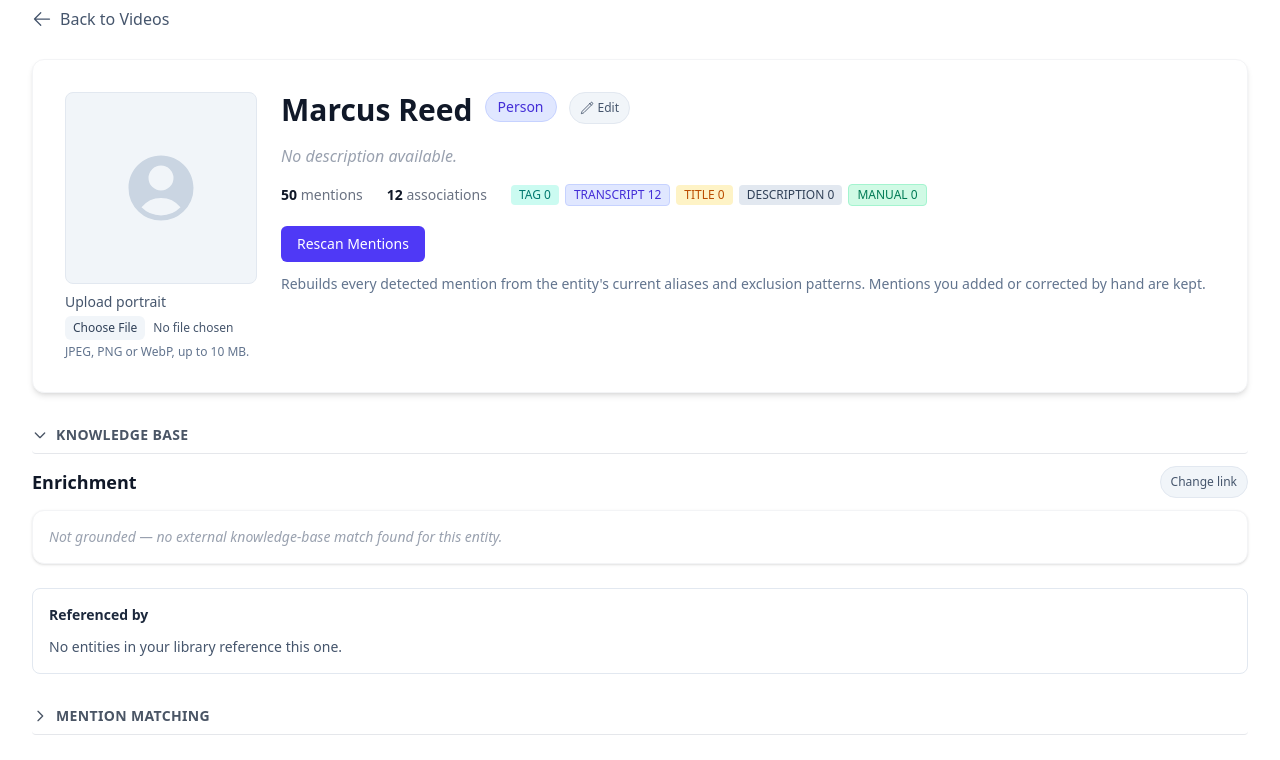
EntityDetailPage — alias case-sensitivity toggle (#177) › renders an unchecked toggle for an alias that matches any casing
The width and height of the screenshot is (1280, 760).
Click the button "Mention matching".
click(133, 716)  # box x1=32 y1=698 x2=1248 y2=735
(page scrolled)
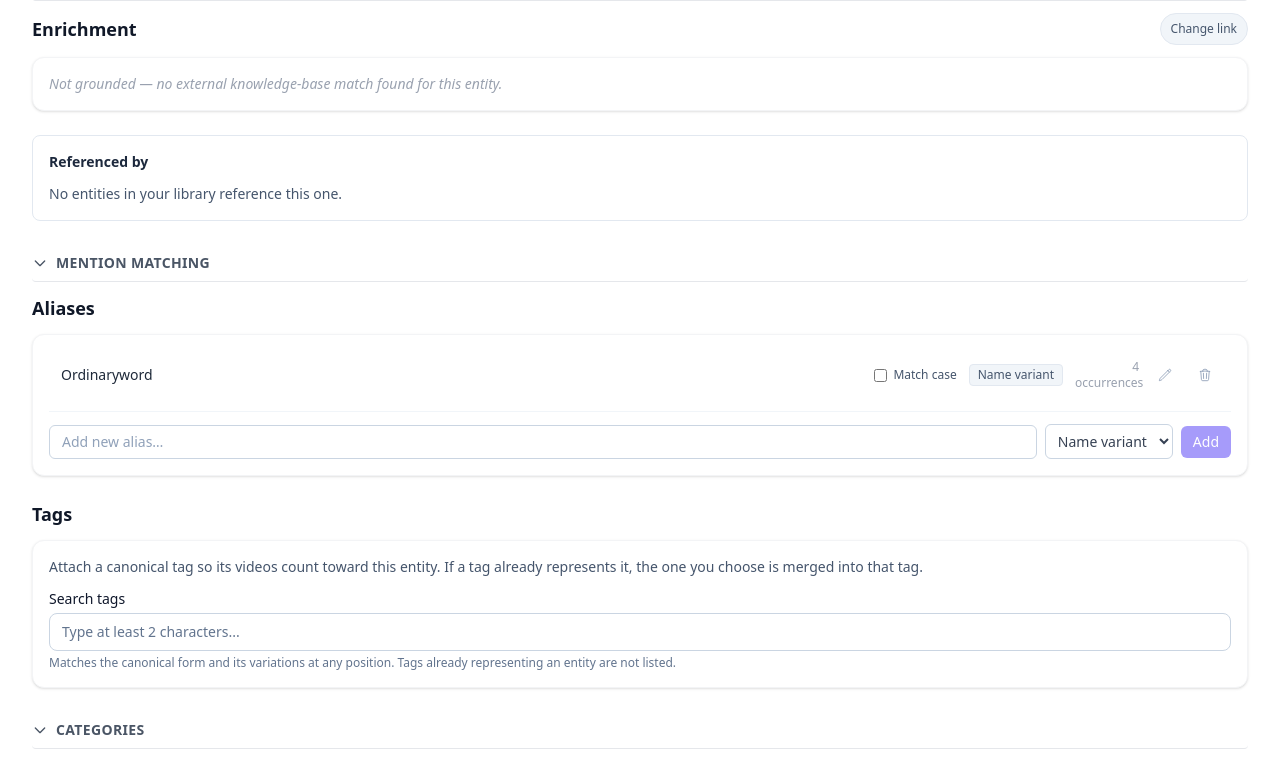
expect the checkbox labelled "Match case" is not checked: met, box x1=874 y1=368 x2=887 y2=382
